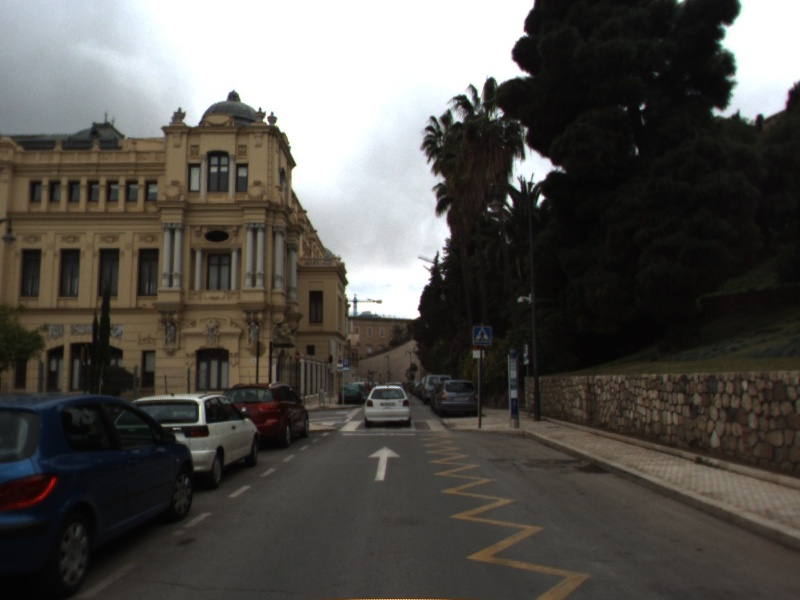STRAIGHT: (366, 444, 403, 482)
